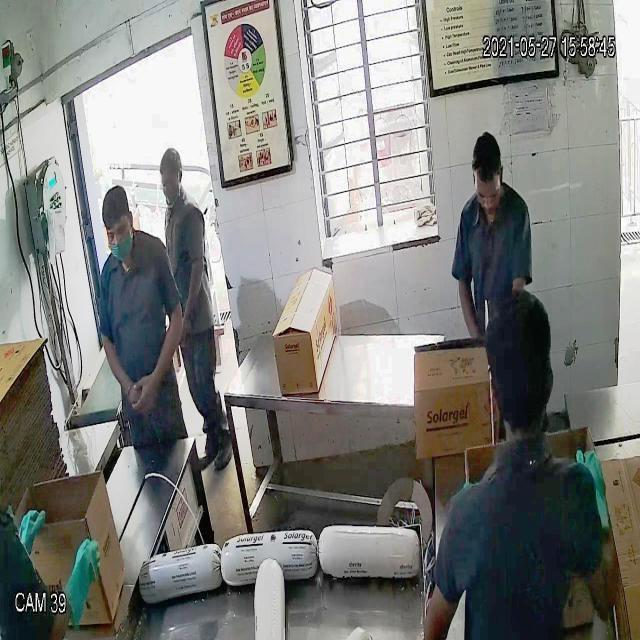apron: (61, 536, 108, 633), (577, 439, 615, 537), (18, 501, 48, 550)
hairnet: (101, 230, 140, 268), (147, 178, 183, 214)
no_apron: (131, 372, 160, 415)
no_gloves: (469, 128, 511, 186), (97, 184, 135, 228)
no_hairnet: (475, 189, 503, 219)
